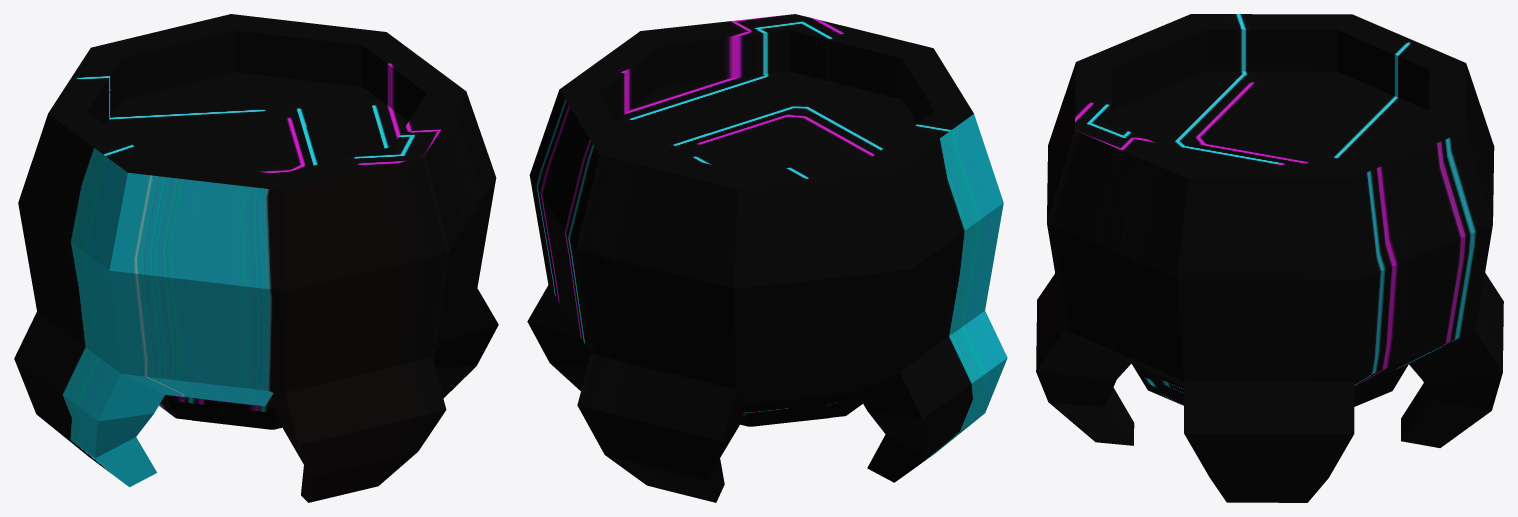
The model's file is Maseta.fbx.
The picture shows the model from 3 angles, left to right: view 1: azimuth 30°, elevation 25°; view 2: azimuth 150°, elevation 25°; view 3: azimuth 270°, elevation 25°; orthographic projection.
Visible parts, largest first — view 1: Cylinder.011; view 2: Cylinder.011; view 3: Cylinder.011.
Boxes of the visible parts, bbox=[...] form: Cylinder.011: bbox=[14, 14, 498, 502]; Cylinder.011: bbox=[527, 14, 1007, 502]; Cylinder.011: bbox=[1036, 14, 1503, 502].
Bounding box in the file's own units: 69.63 × 56.09 × 70.33.
Materials: 1 (1 with a texture image).
